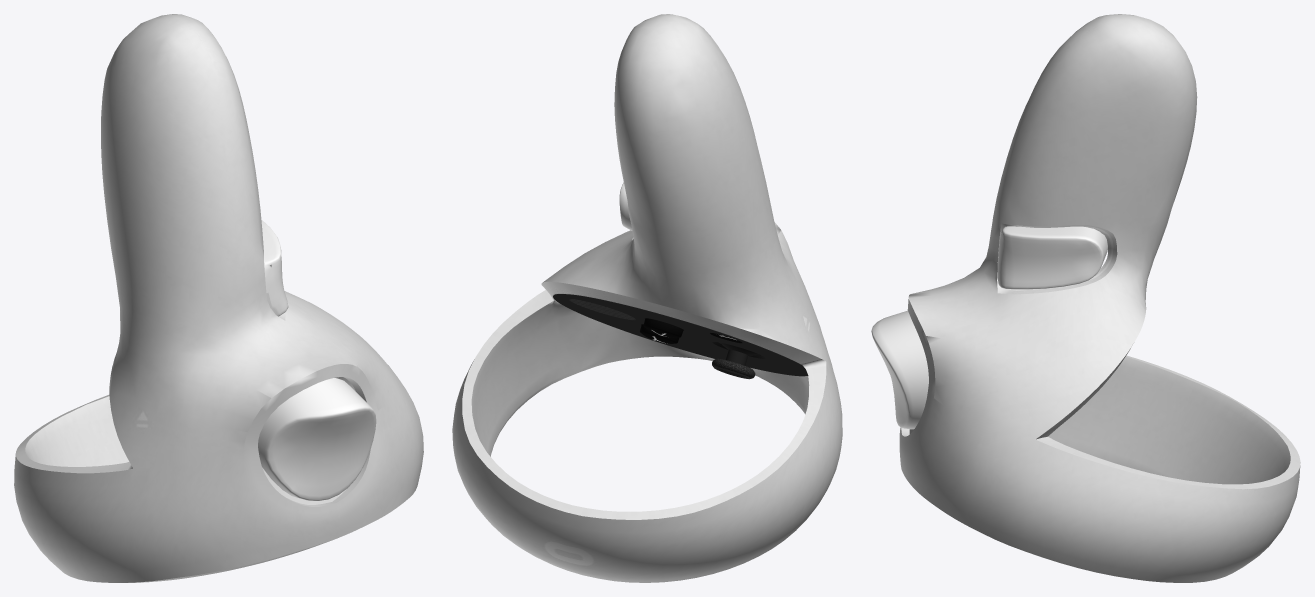
Rendered from controller_l.glb.
3 renders of one model, left to right at view 1: azimuth 30°, elevation 25°; view 2: azimuth 150°, elevation 25°; view 3: azimuth 270°, elevation 25°, orthographic. The views are drawn at different scales.
Parts seen in each view (by area): view 1: Controller_L; view 2: Controller_L; view 3: Controller_L.
Part boxes in pixels (x1=…): Controller_L: x1=14, y1=14, x2=423, y2=582; Controller_L: x1=452, y1=14, x2=842, y2=582; Controller_L: x1=871, y1=14, x2=1300, y2=582.
Size of the model in its own units: 0.1001 by 0.1476 by 0.1101.
1 material, 1 textured.
